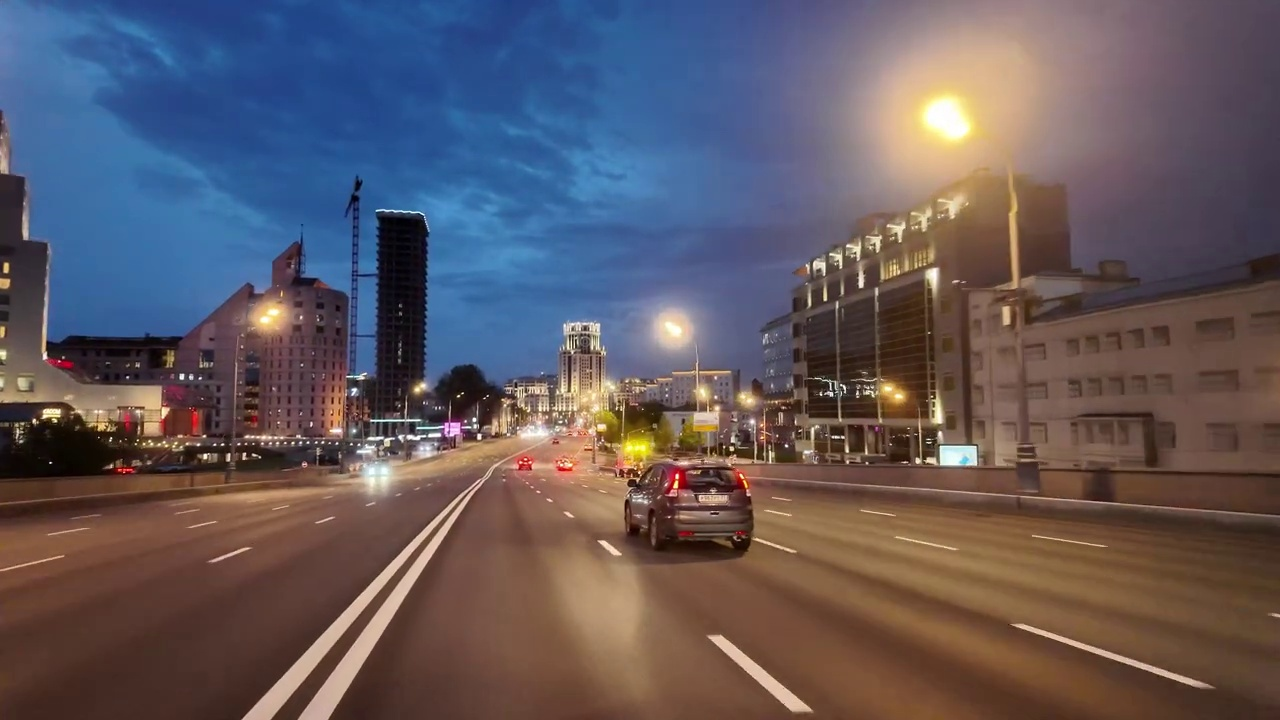acesa: (913, 89, 976, 151), (656, 312, 691, 347), (252, 301, 287, 334)
